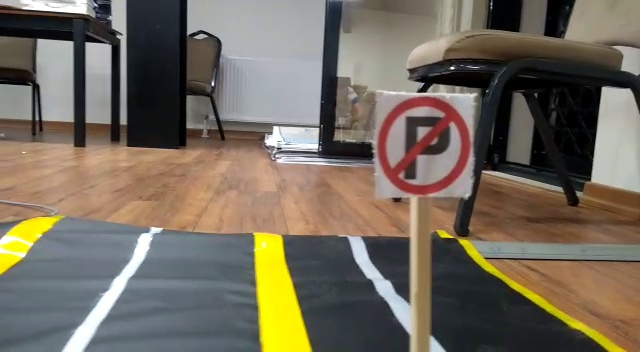park_yapilmaz: (371, 92, 471, 199)
